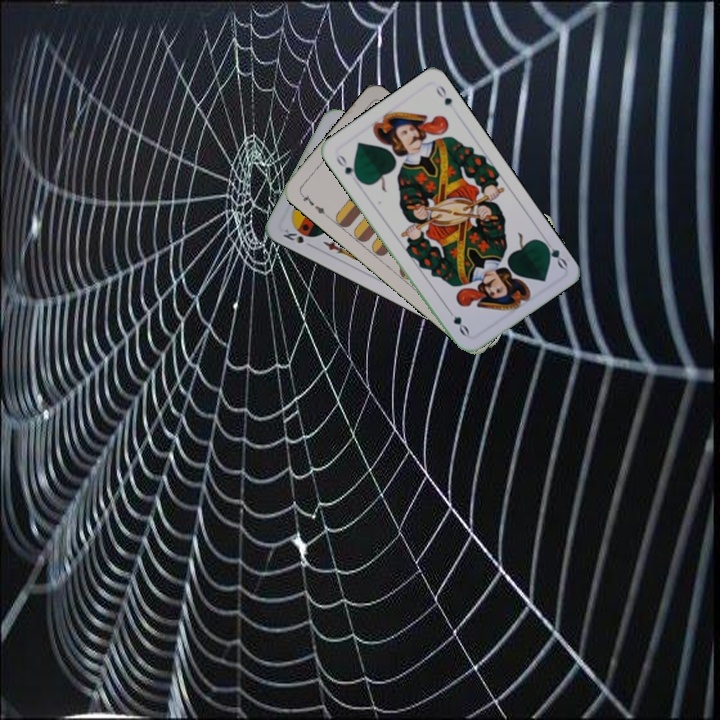E7: (296, 189, 330, 220)
GO: (538, 234, 570, 271), (332, 151, 362, 183)
SK: (279, 224, 306, 246)
